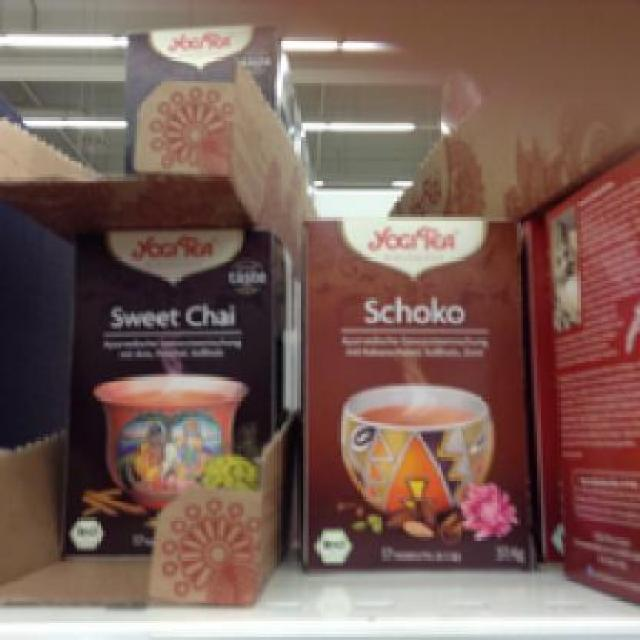Tea: (297, 213, 537, 570), (63, 226, 280, 554)
